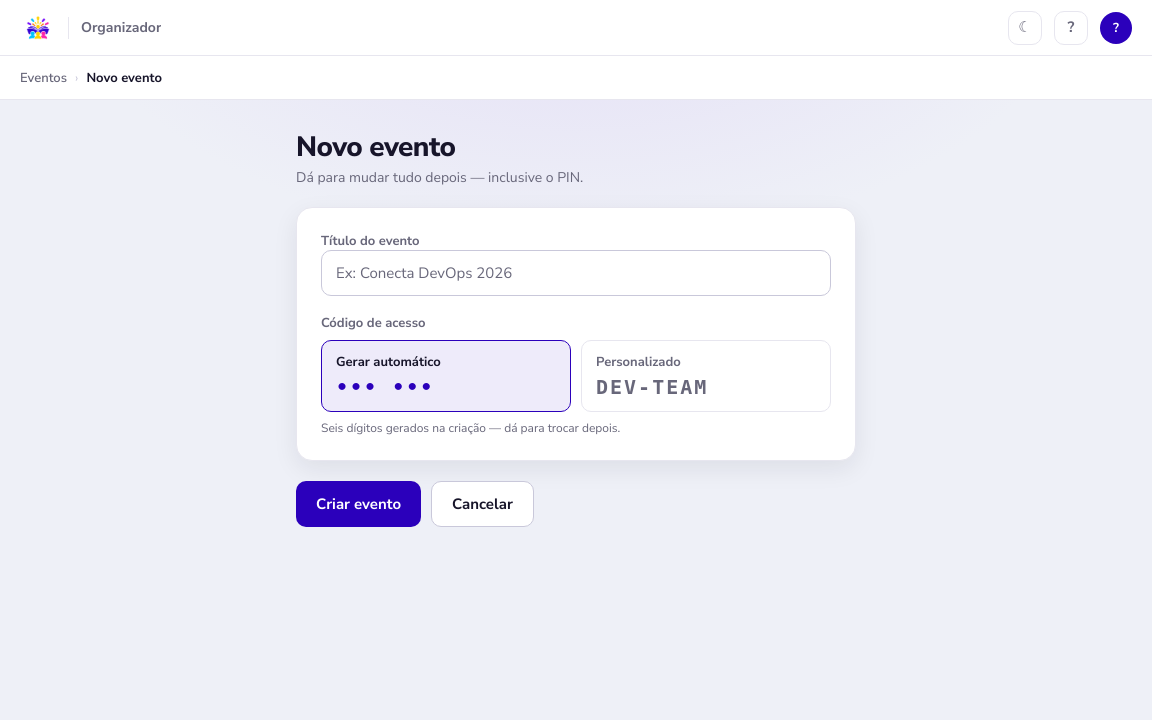
Test case: Novo evento › mostra erro do servidor
Type "Retro" into the field labelled "Título do evento" at point(576, 273), box top-left (321, 250), bottom-right (831, 296)
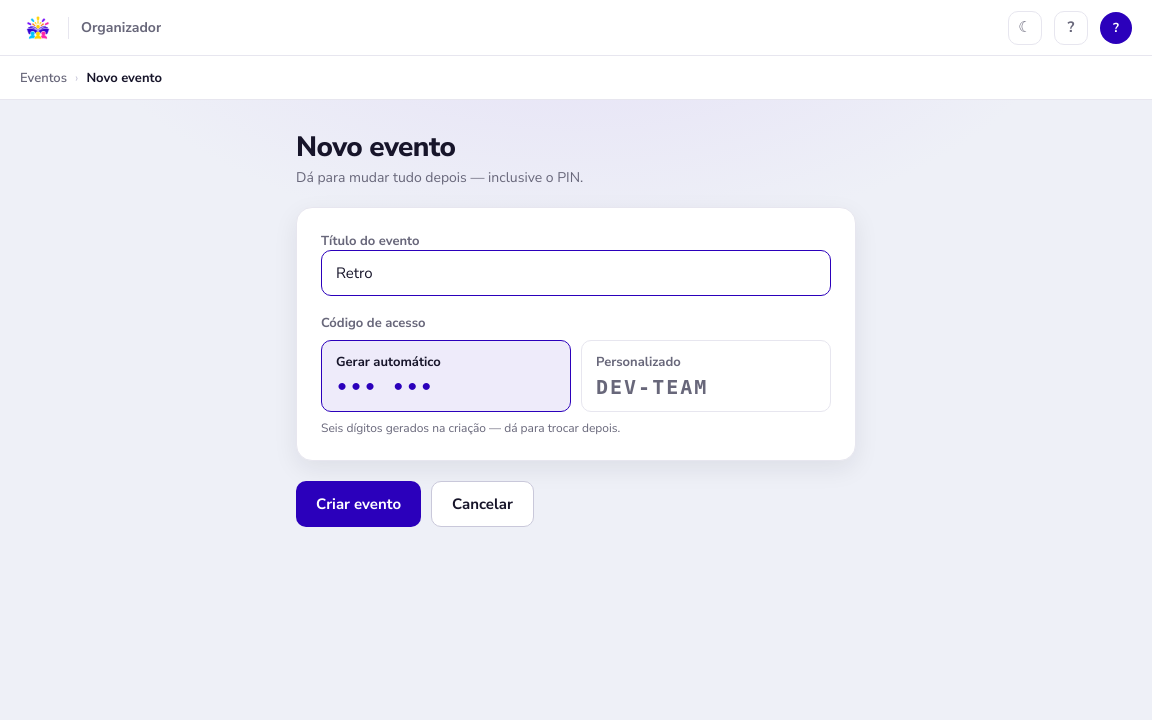
Click the button "Criar evento" at point(358, 504), box top-left (296, 481), bottom-right (421, 527)
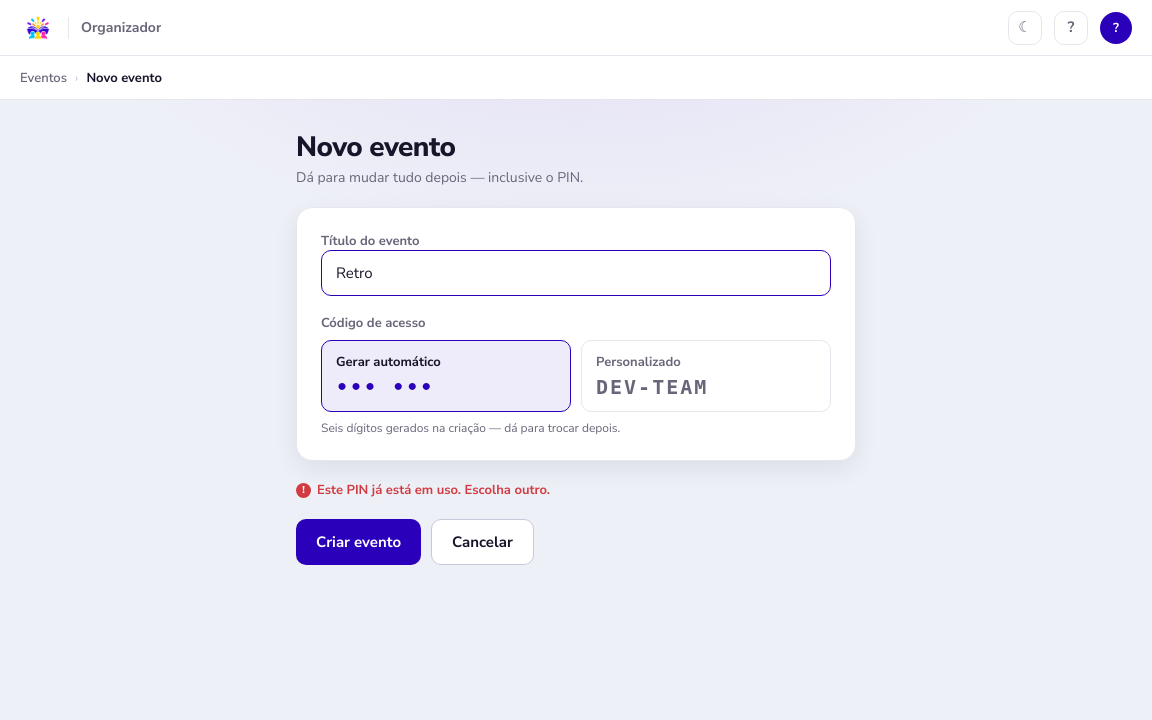
Check: the text "Este PIN já está em uso. Escolha outro." is shown, box top-left (317, 481), bottom-right (550, 499)
